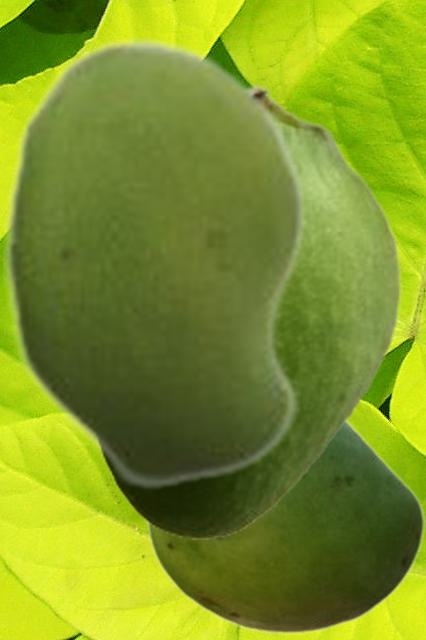green_mango: (94, 83, 401, 538), (3, 36, 307, 491), (145, 418, 424, 634)
